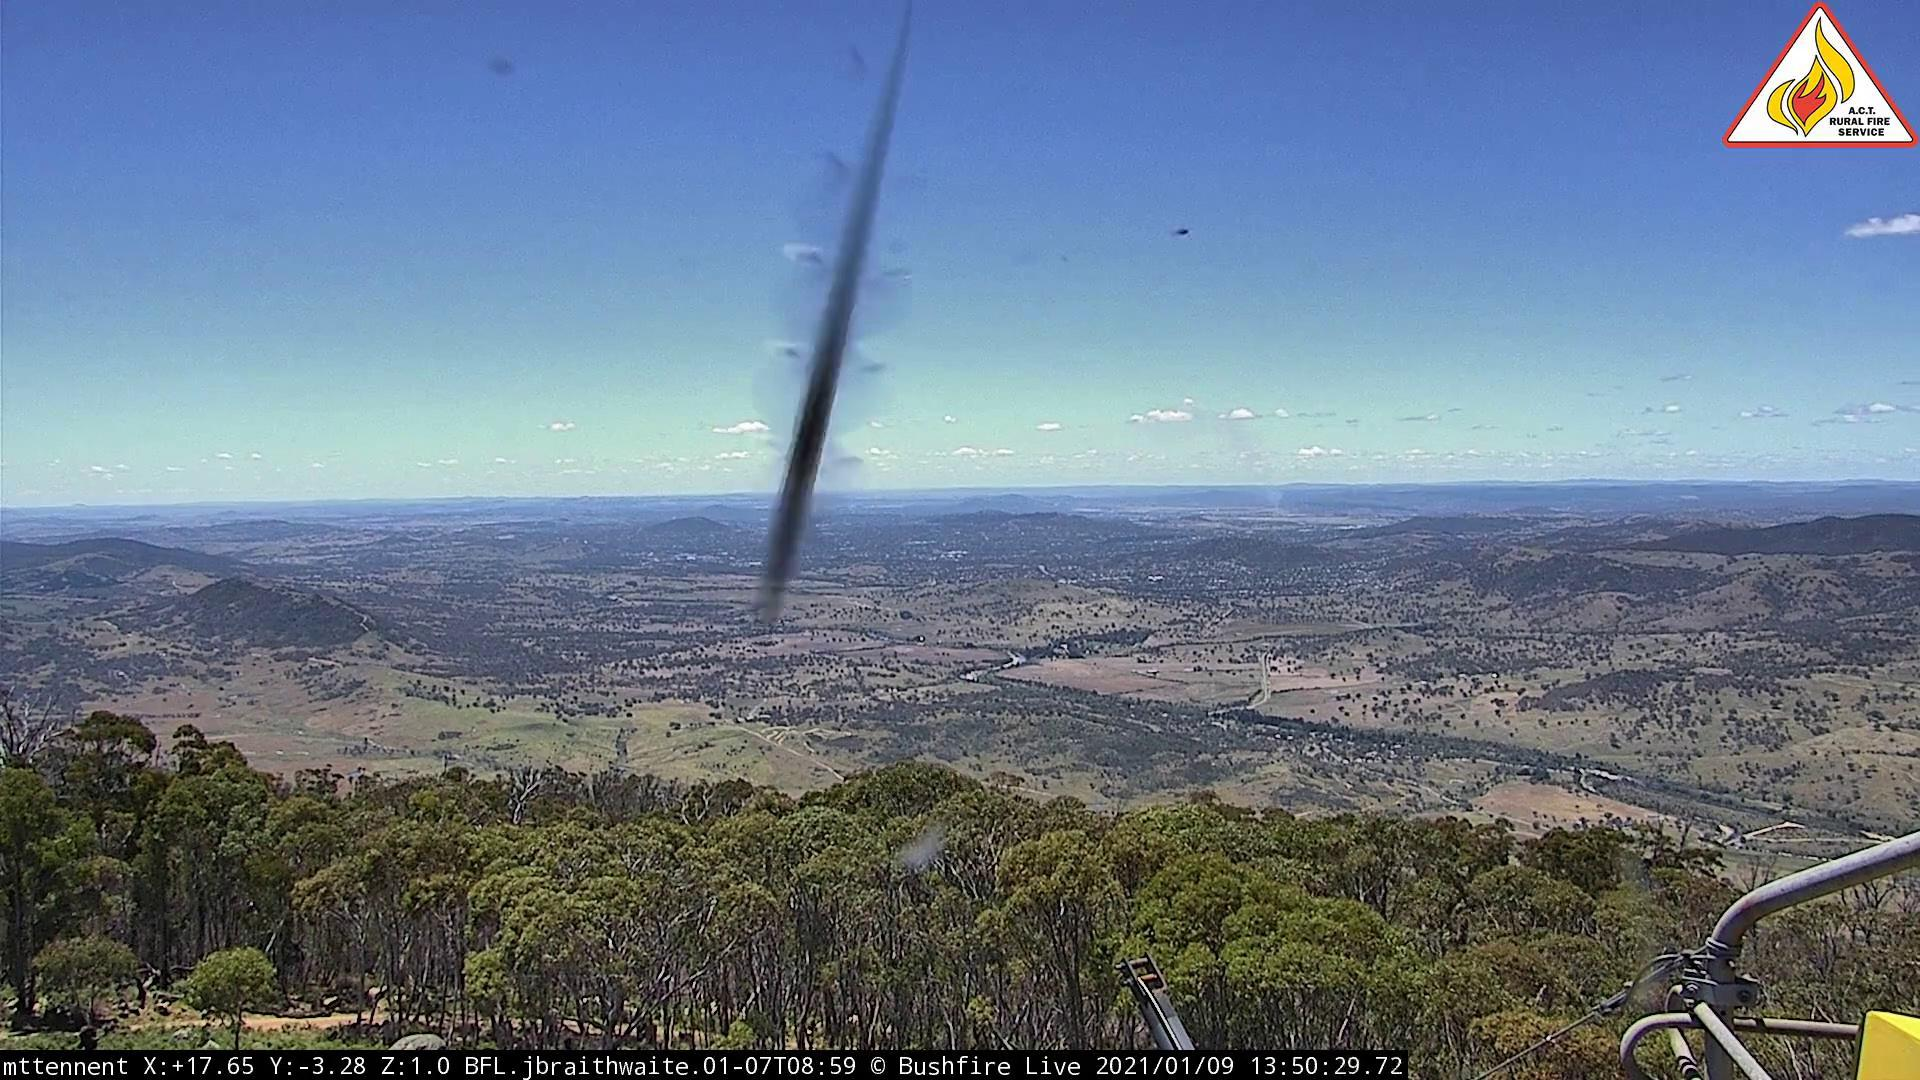instance_salient_object: (1270, 492, 1305, 520)
